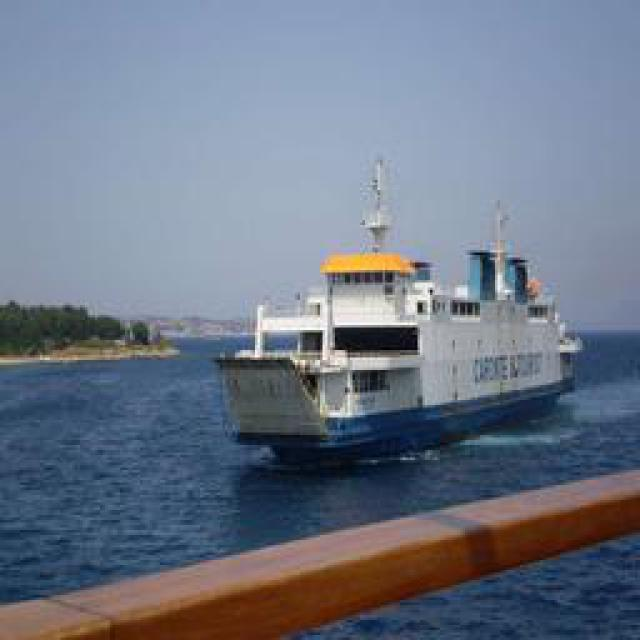Ship: (215, 156, 583, 476)
